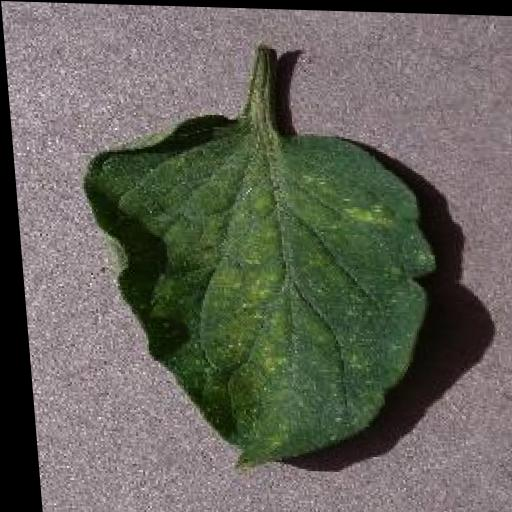Spider Mites: (71, 110, 450, 477)
